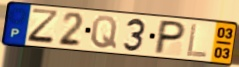2: (58, 12, 86, 48)
3: (122, 18, 147, 53)
L: (185, 22, 209, 59)
P: (152, 19, 188, 56)
Q: (89, 14, 118, 51)
Z: (26, 8, 61, 47)
